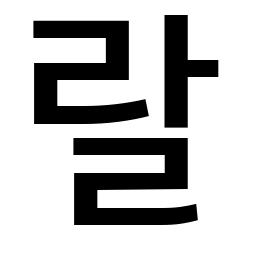Buri: (153, 5, 200, 34)
Gaji: (155, 48, 199, 92)
Kkeokim: (94, 14, 140, 52), (153, 130, 195, 164)
